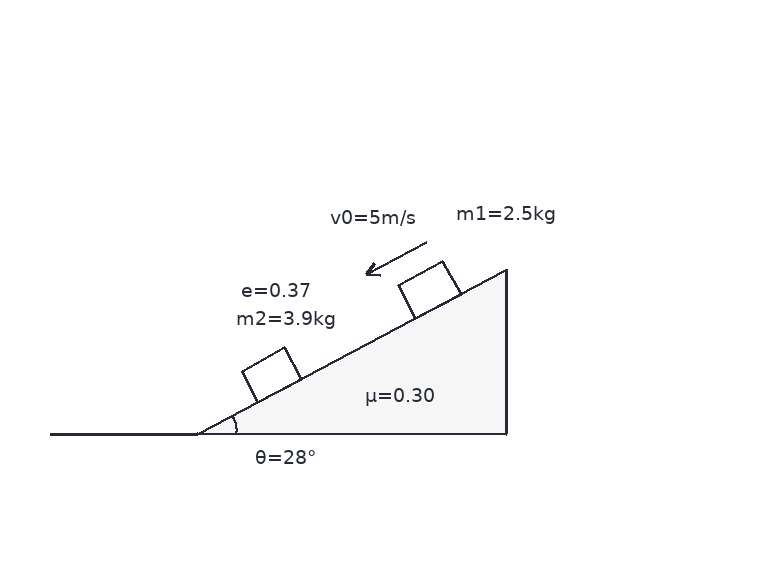block: (396, 259, 462, 320), (239, 345, 302, 404)
ramp: (195, 268, 508, 436)
